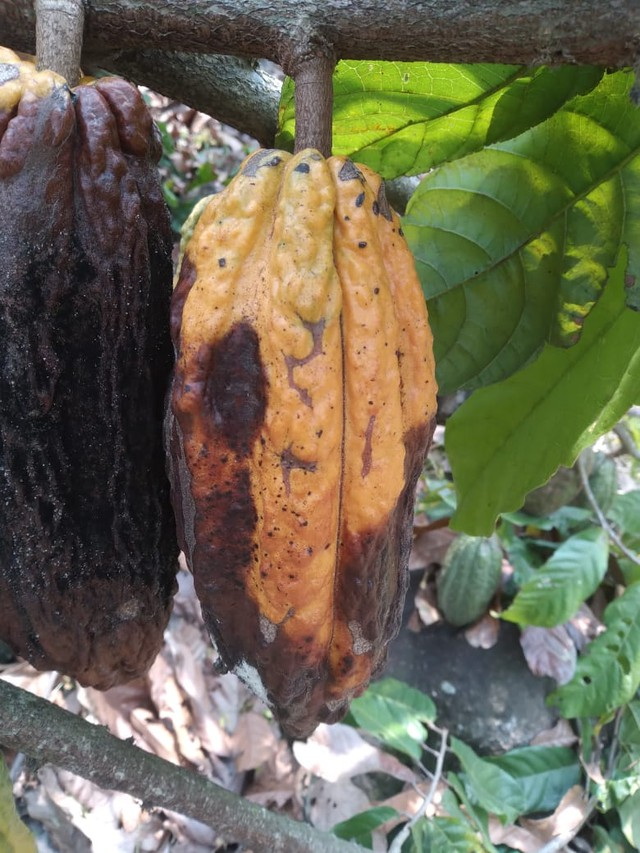moniliophthora roreri: (156, 140, 454, 750)
